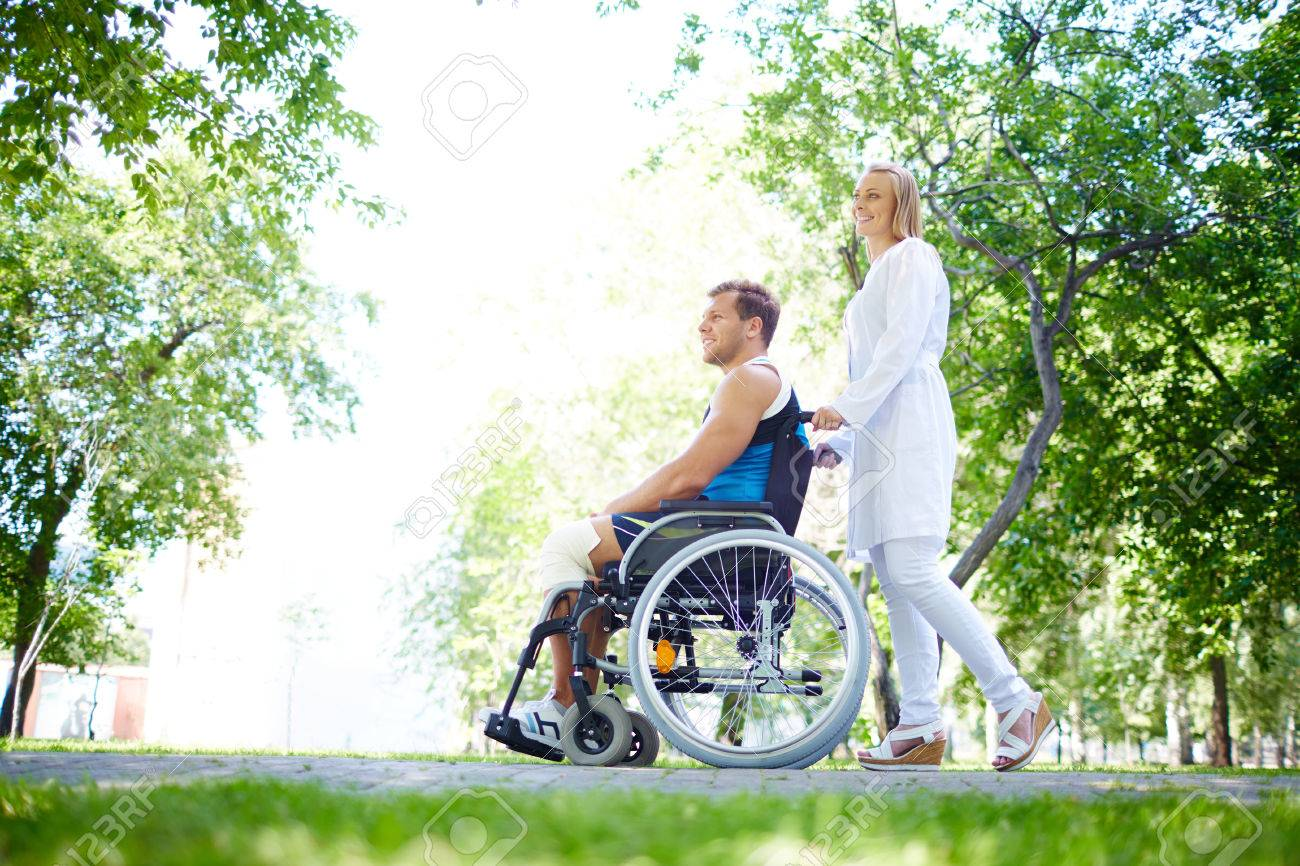wheelchair: (476, 281, 873, 763)
